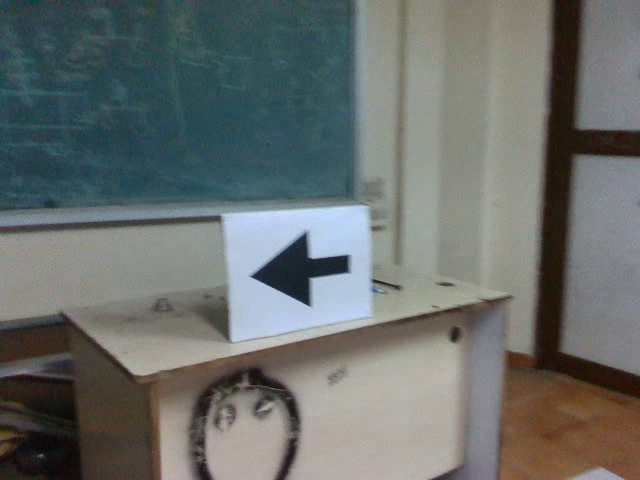Left: (244, 225, 356, 318)
